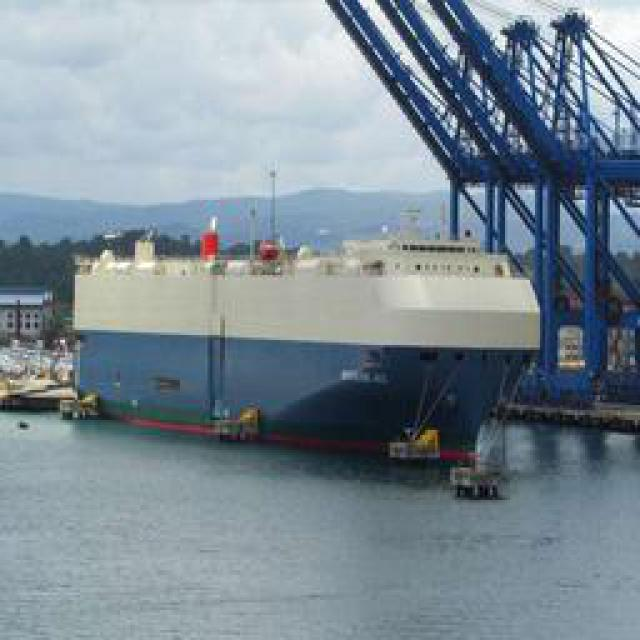Ship: (75, 169, 543, 459)
